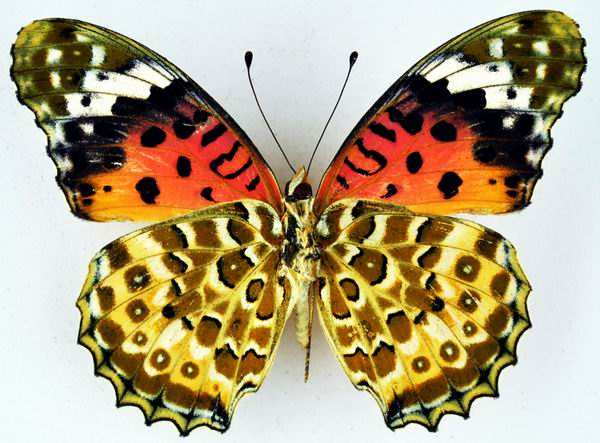Argyreus hyperbius: (7, 10, 590, 435)
butterfly: (9, 12, 592, 437)
